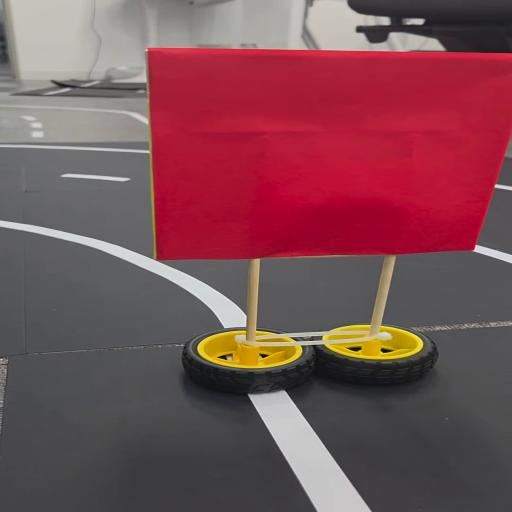Sign_A: (142, 46, 509, 404)
